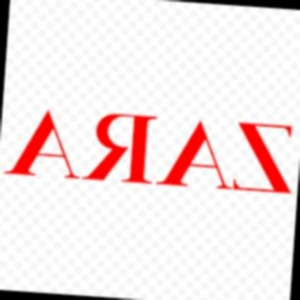zara: (296, 48, 299, 145)
